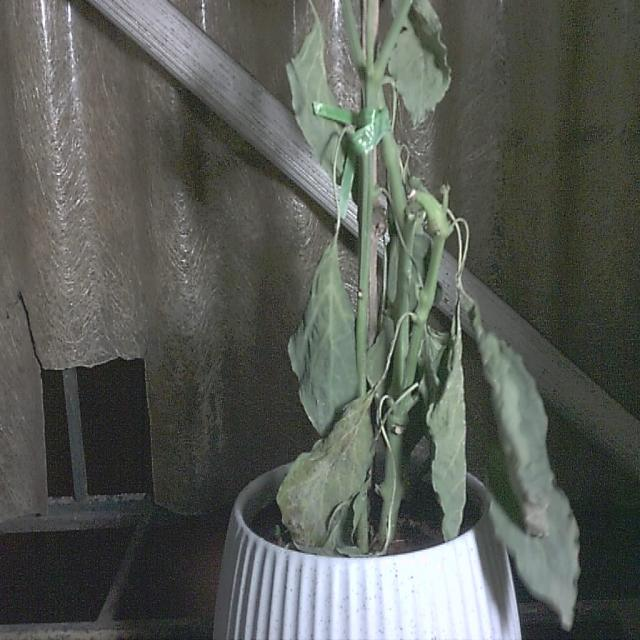Leaf: (474, 306, 551, 534), (288, 241, 361, 442), (426, 314, 468, 536)
